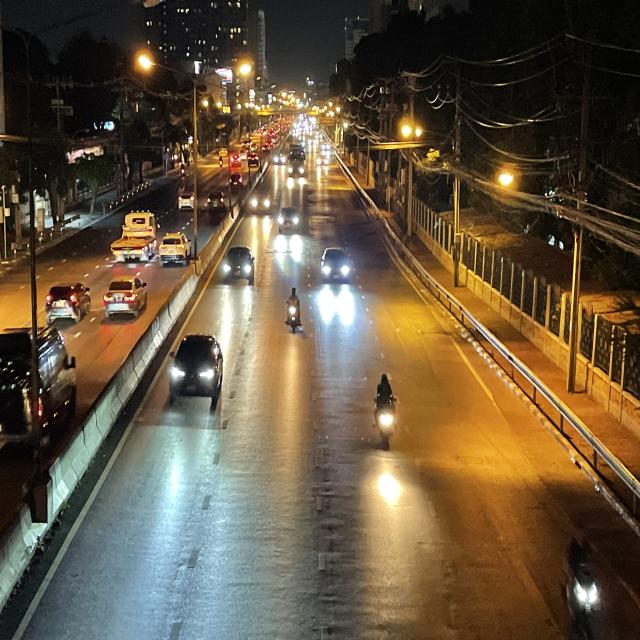bike: (562, 518, 603, 640), (371, 372, 401, 451), (286, 286, 303, 333)
car: (164, 331, 226, 405), (223, 244, 256, 288), (319, 245, 353, 283)
